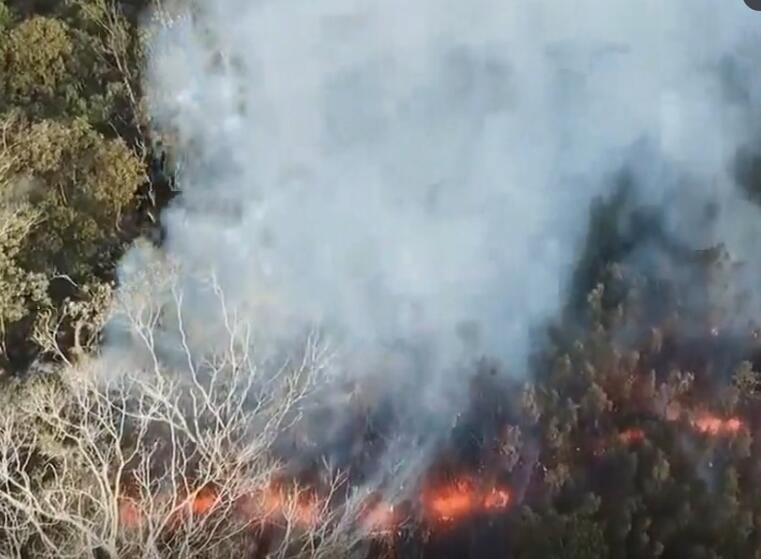fire: (120, 479, 534, 536), (598, 407, 745, 455)
yanwu: (45, 1, 760, 467)
